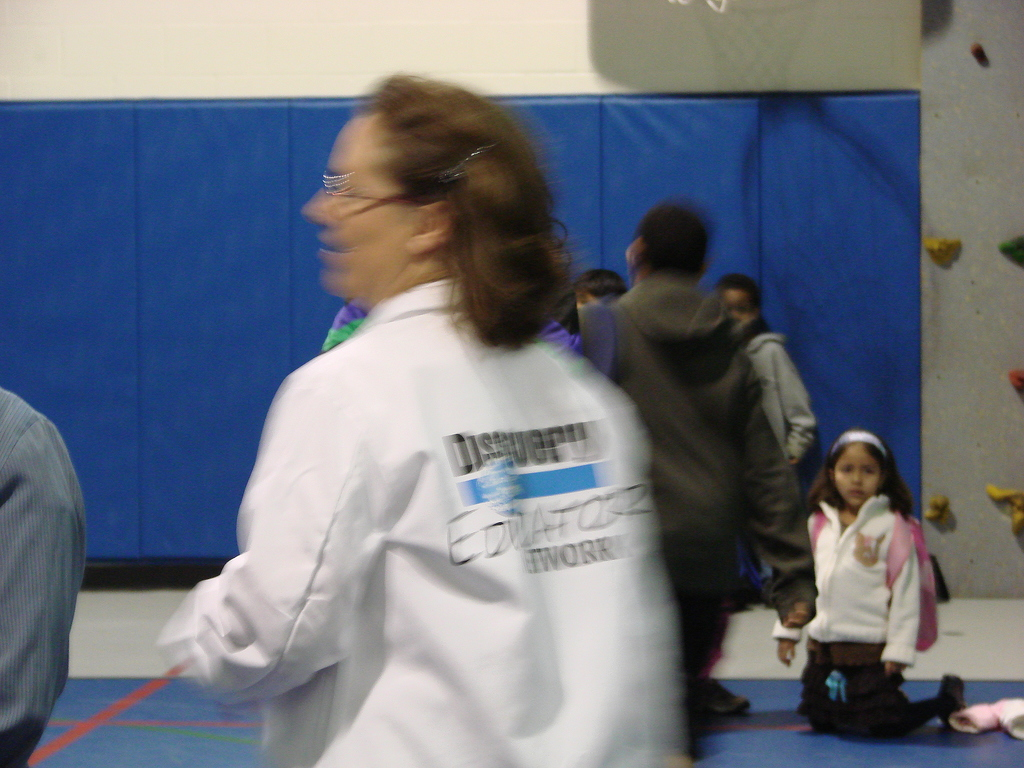Person: (0, 74, 969, 767)
